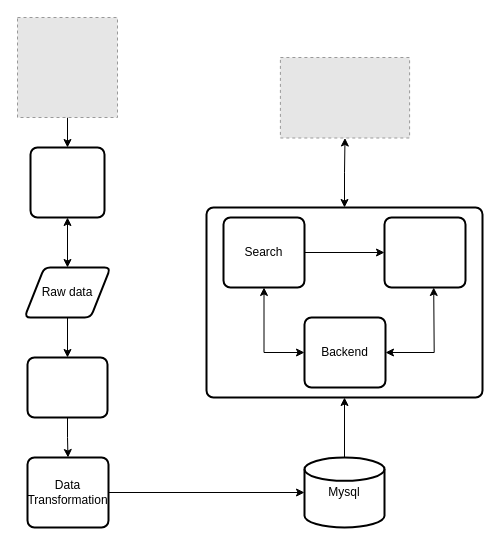
This 501x546 diagram has some shape labels left out. Grey dashed boxes stand in for pictures. The centre of each missing label's shape, as x and y in pixels:
Crawler: the point at 67,182
Data Cleaning and Integration: the point at 67,387
Map: the point at 424,252
